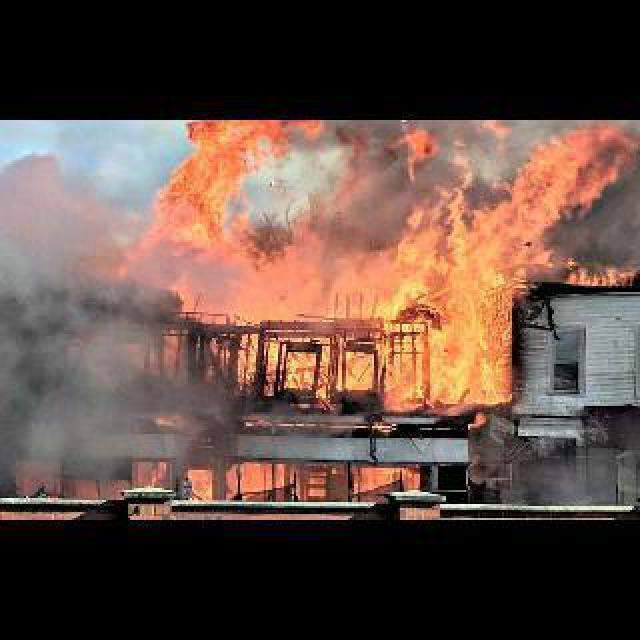Fire: (138, 120, 628, 412)
Smoke: (2, 152, 196, 488)
